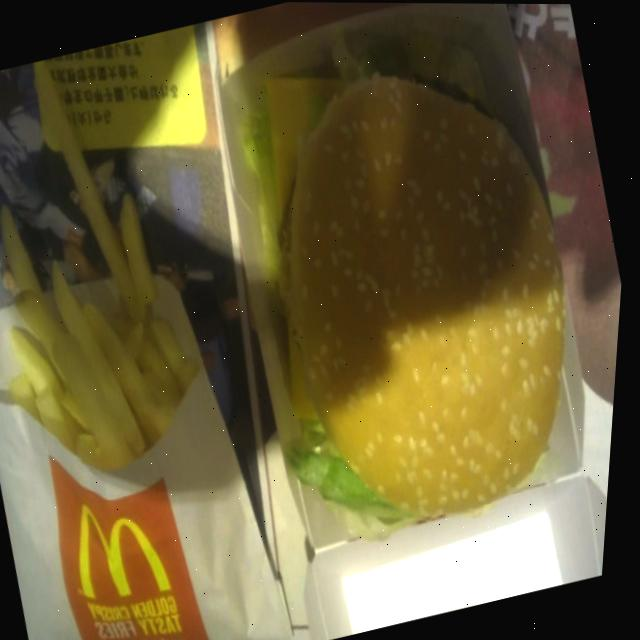汉堡快餐: (173, 1, 640, 559)
炸货点心: (0, 41, 297, 640)
